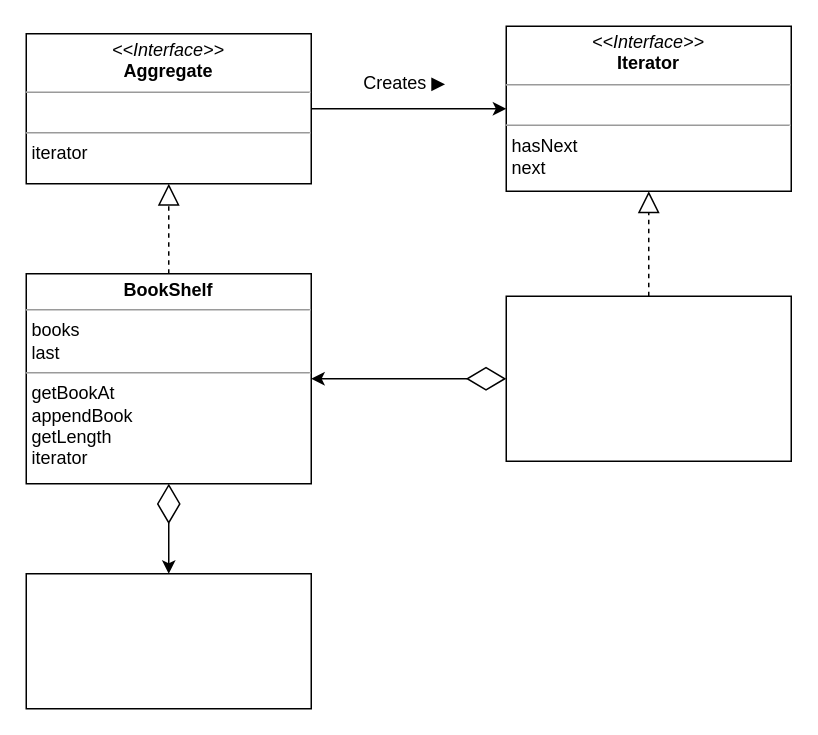
The diagram is 818 pixels wide and 735 high, and some of its shapes have lost their labels. The shapes that lost their labels are listed below. From the top down, each one's centre as x and y in pixels, then its label:
At point (648, 378): "BookShelfIterator bookShelf index hasNext next".
At point (168, 640): "Book name getName".
